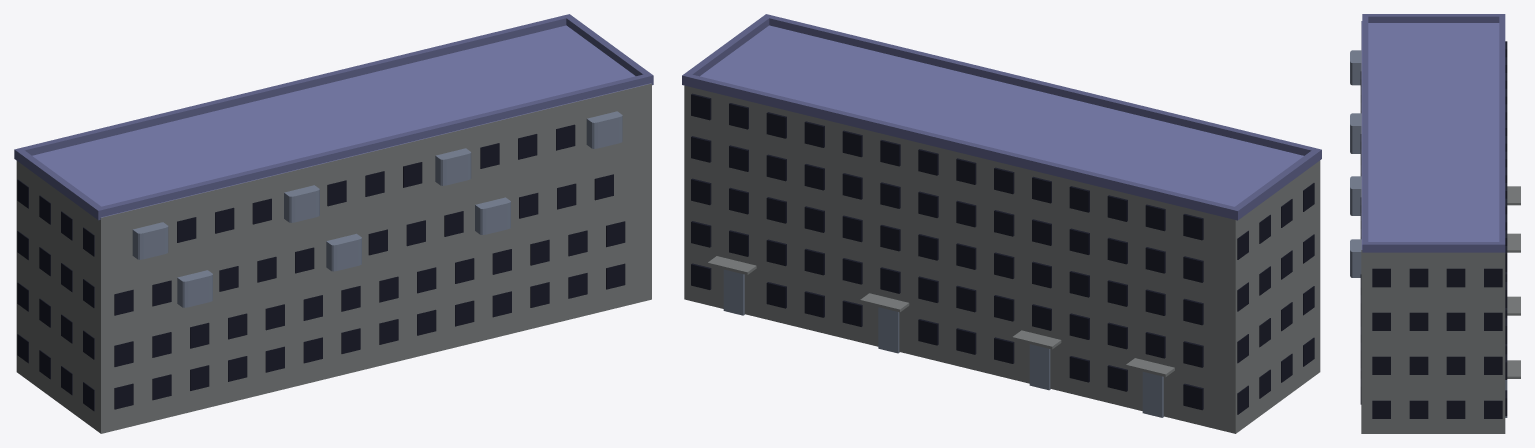
Rendered from House4.fbx.
3 renders of one model, left to right at view 1: azimuth 30°, elevation 25°; view 2: azimuth 150°, elevation 25°; view 3: azimuth 270°, elevation 25°, orthographic. The views are drawn at different scales.
Visible parts, largest first — view 1: House4; view 2: House4; view 3: House4.
Part boxes in pixels (x1,y1,x2,y2): House4: [14, 14, 653, 433]; House4: [682, 14, 1321, 433]; House4: [1350, 14, 1520, 433].
Bounding box in the file's own units: 2286 × 881 × 715.
1 material, 1 textured.
